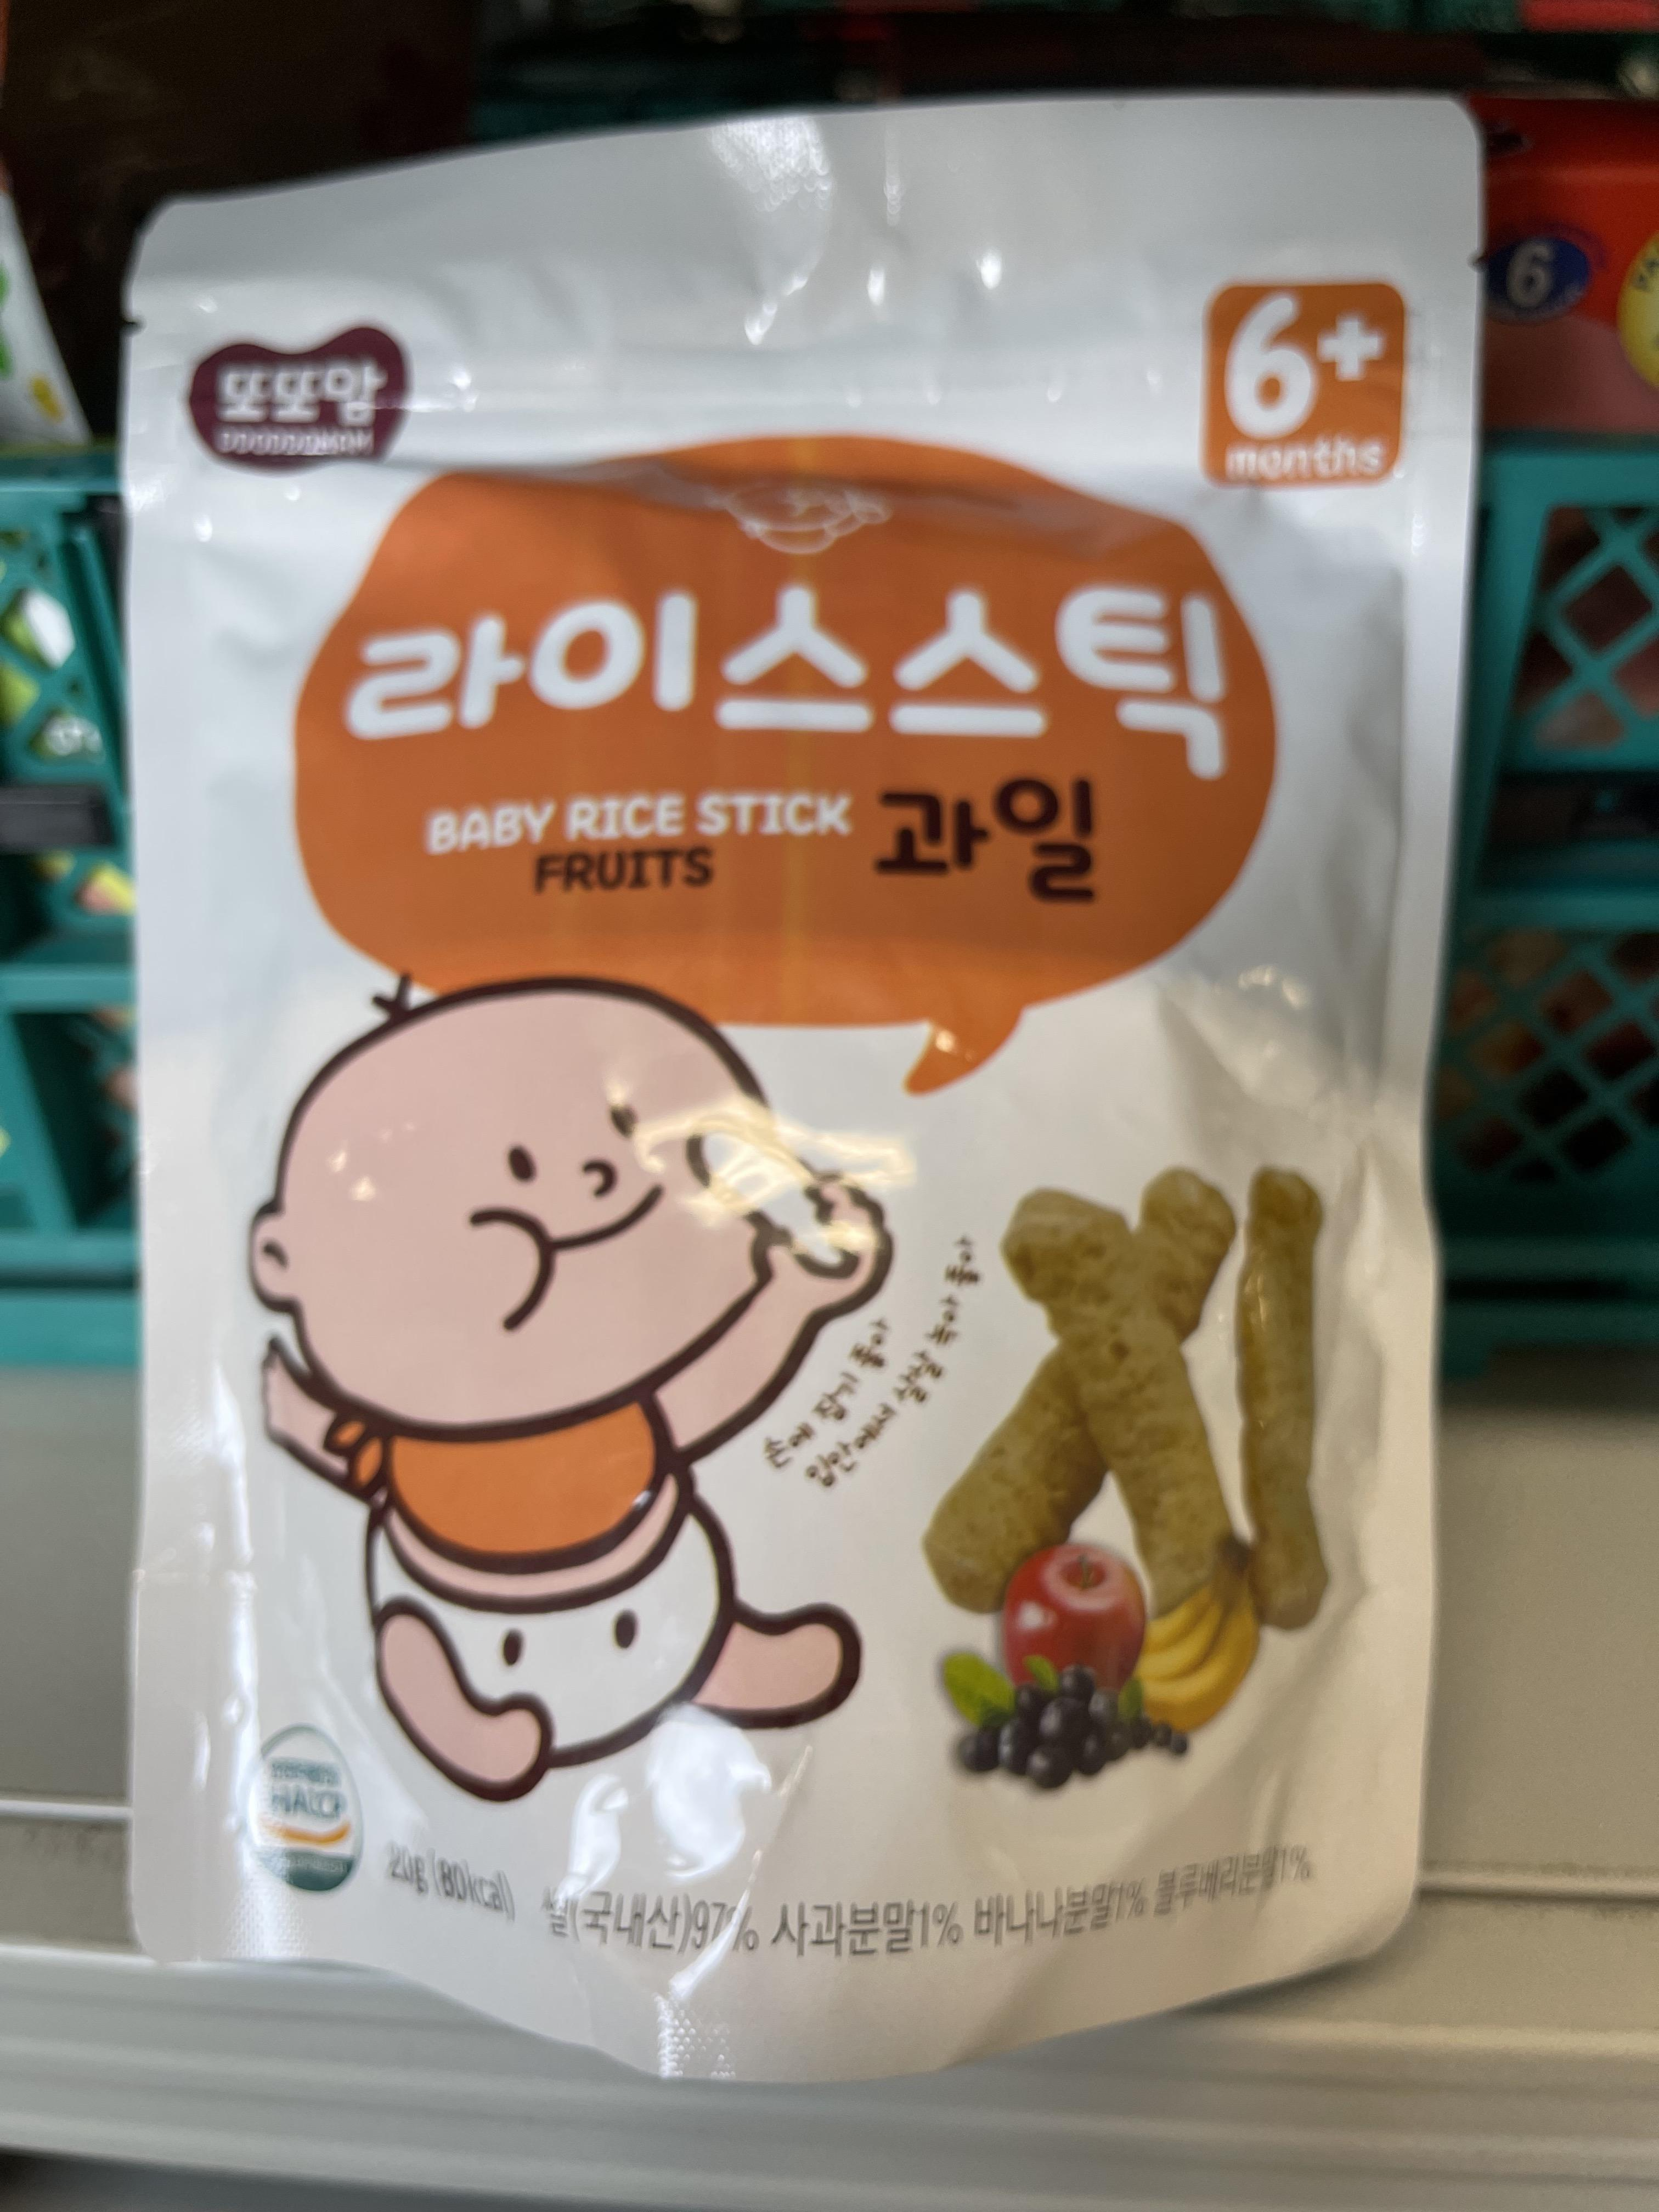object_name: (179, 202, 1436, 1965)
